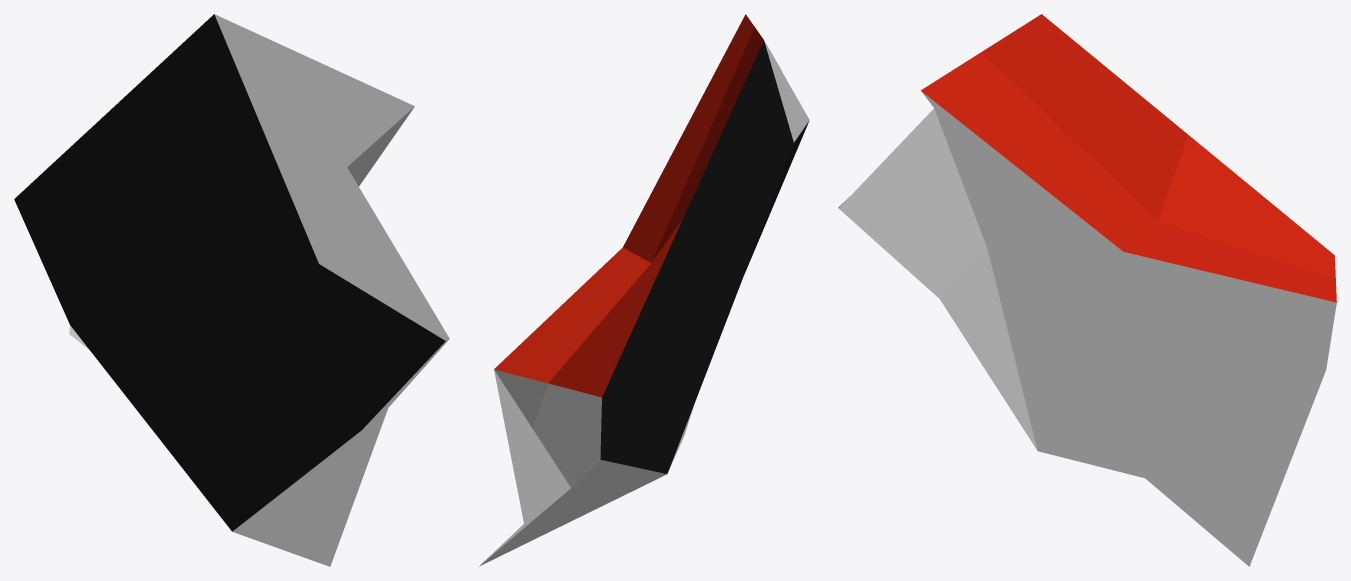
Rendered from debris2.obj.
3 renders of one model, left to right at view 1: azimuth 30°, elevation 25°; view 2: azimuth 150°, elevation 25°; view 3: azimuth 270°, elevation 25°, orthographic. The views are drawn at different scales.
Visible parts, largest first — view 1: Cube; view 2: Cube; view 3: Cube.
Boxes of the visible parts, box(x1,y1,x2,y2) form: Cube: box(14, 14, 449, 566); Cube: box(478, 14, 809, 566); Cube: box(838, 14, 1336, 566).
Size of the model in its own units: 0.2651 by 0.7014 by 0.6744.
